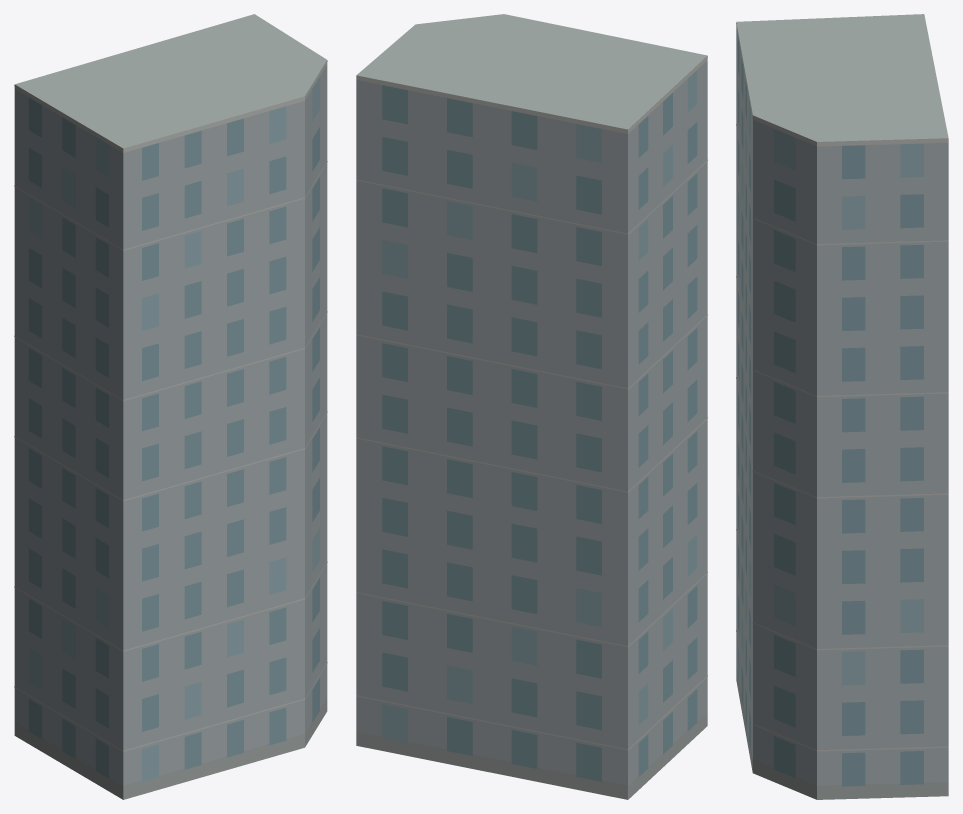
File: survey-upis-32675765.glb
3 renders of one model, left to right at view 1: azimuth 30°, elevation 25°; view 2: azimuth 150°, elevation 25°; view 3: azimuth 270°, elevation 25°, orthographic. The views are drawn at different scales.
Parts seen in each view (by area): view 1: survey-upis-32675765.tmp; view 2: survey-upis-32675765.tmp; view 3: survey-upis-32675765.tmp.
Part boxes in pixels (box(x1,y1,x2,y2)): survey-upis-32675765.tmp: box(14, 14, 327, 799); survey-upis-32675765.tmp: box(356, 14, 707, 799); survey-upis-32675765.tmp: box(736, 14, 948, 799).
Size of the model in its own units: 14.88 by 35.6 by 10.44.
